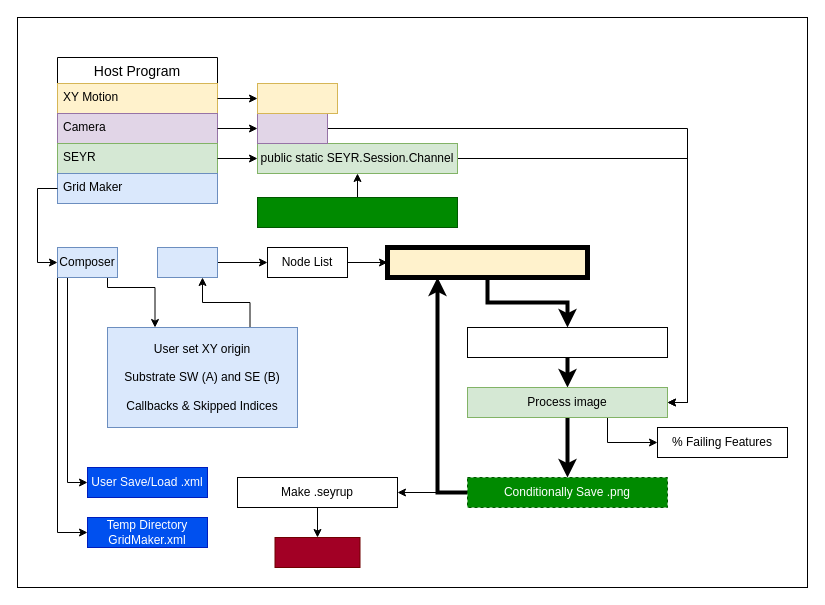
Image size: 825x605. Some labels were removed from this diagram. The shapes that lost their labels are listed below. From the top down, each one's centre as x and y in pixels, then its label:
At point 297,98: "Move to (x, y)".
At point 292,128: "GetBitmap()".
At point 357,212: "project.seyr, SEYRreport.txt, SEYRdebug.txt, SEYRpattern.png".
At point 187,262: "Generator".
At point 487,262: "Iterate and move to positions".
At point 567,342: "Process callback".
At point 317,552: "XferSuite".
